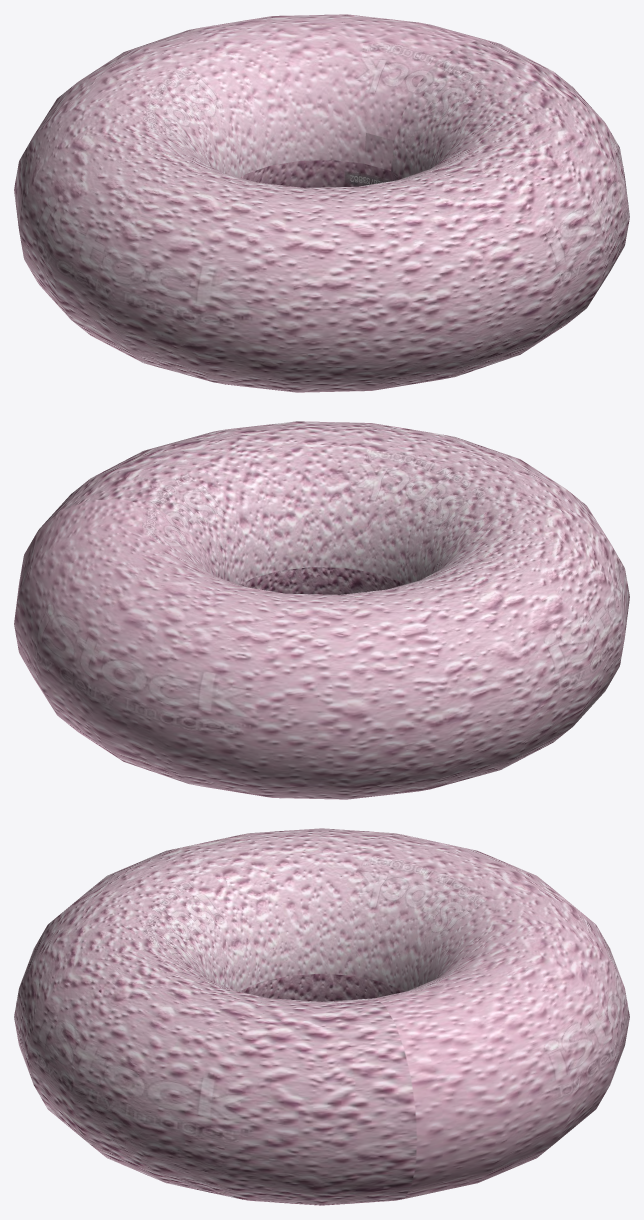
Rendered from Objeto3.obj.
3 renders of one model, top to bottom at view 1: azimuth 30°, elevation 25°; view 2: azimuth 150°, elevation 25°; view 3: azimuth 270°, elevation 25°, orthographic.
Visible parts, largest first — view 1: polySurface12 estante:pCylinder5; view 2: polySurface12 estante:pCylinder5; view 3: polySurface12 estante:pCylinder5.
Boxes of the visible parts, left/top/right/bottom form: polySurface12 estante:pCylinder5: left=14, top=14, right=629, bottom=392; polySurface12 estante:pCylinder5: left=14, top=421, right=629, bottom=799; polySurface12 estante:pCylinder5: left=14, top=828, right=629, bottom=1205.
Size of the model in its own units: 0.2724 by 0.0908 by 0.2724.
Materials: 1 (1 with a texture image).
